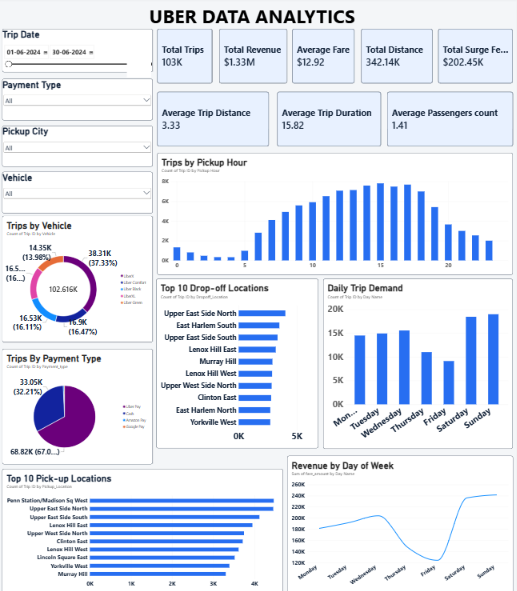

Layout of this report page (visuals, bound fields, positions):
{"tool":"powerbi","page":{"name":"Page 1","canvas":[2000,2300],"ordinal":0},"visuals":[{"type":"cardVisual","fields":{"Data":["Uber_Trip_Joined_Data.Total Revenue"]},"box":[847.5,122.5,262.5,210],"z":1},{"type":"cardVisual","fields":{"Data":["Uber_Trip_Joined_Data.Average Fare"]},"box":[1130,122.5,240,210],"z":2},{"type":"cardVisual","fields":{"Data":["Uber_Trip_Joined_Data.Total Distance"]},"box":[1395,122.5,275,210],"z":3},{"type":"cardVisual","fields":{"Data":["Uber_Trip_Joined_Data.Average Trip Distance"]},"box":[610,367.5,430,210],"z":4},{"type":"cardVisual","fields":{"Data":["Uber_Trip_Joined_Data.Total Surge Fees"]},"box":[1692.5,122.5,287.5,210],"z":6},{"type":"cardVisual","fields":{"Data":["Uber_Trip_Joined_Data.Average Passengers count"]},"box":[1495,367.5,485,210],"z":7},{"type":"clusteredColumnChart","title":"Daily Trip Demand","fields":{"Category":["Uber_Trip_Joined_Data.Day Name"],"Y":["CountNonNull(Uber_Trip_Joined_Data.Trip ID)"]},"box":[1250,1085,730,655],"z":8},{"type":"clusteredColumnChart","title":"Trips by Pickup Hour","fields":{"Category":["Uber_Trip_Joined_Data.Pickup Hour"],"Y":["CountNonNull(Uber_Trip_Joined_Data.Trip ID)"]},"box":[610,600,1370,470],"z":9},{"type":"lineChart","title":"Revenue by Day of Week","fields":{"Category":["Uber_Trip_Joined_Data.Day Name"],"Y":["Sum(Uber_Trip_Joined_Data.fare_amount)"]},"box":[1110,1767.5,870,532.5],"z":10},{"type":"clusteredBarChart","title":"Top 10 Drop-off Locations","fields":{"Category":["Uber_Trip_Joined_Data.Dropoff_Location"],"Y":["CountNonNull(Uber_Trip_Joined_Data.Trip ID)"]},"box":[605,1087.5,625,652.5],"z":12},{"type":"clusteredBarChart","title":"Top 10 Pick-up Locations","fields":{"Category":["Uber_Trip_Joined_Data.Pickup_Location"],"Y":["CountNonNull(Uber_Trip_Joined_Data.Trip ID)"]},"box":[10,1820,1082.5,480],"z":13},{"type":"donutChart","title":"Trips by Vehicle","fields":{"Category":["Uber_Trip_Joined_Data.Vehicle"],"Y":["CountNonNull(Uber_Trip_Joined_Data.Trip ID)"]},"box":[10,842.5,580,487.5],"z":14},{"type":"pieChart","title":"Trips By Payment Type","fields":{"Category":["Uber_Trip_Joined_Data.Payment_type"],"Y":["CountNonNull(Uber_Trip_Joined_Data.Trip ID)"]},"box":[10,1355,580,445],"z":15},{"type":"slicer","title":"Trip Date","fields":{"Values":["Uber_Trip_Joined_Data.Trip_Date"]},"box":[10,122.5,580,167.5],"z":16},{"type":"slicer","title":"Vehicle","fields":{"Values":["Uber_Trip_Joined_Data.Vehicle"]},"box":[10,675,580,160],"z":17},{"type":"slicer","title":"Payment Type","fields":{"Values":["Uber_Trip_Joined_Data.Payment_type"]},"box":[10,315,580,160],"z":18},{"type":"slicer","title":"Pickup City","fields":{"Values":["Uber_Trip_Joined_Data.Pickup_City"]},"box":[10,497.5,580,157.5],"z":19},{"type":"textbox","box":[580,25,805,117.5],"z":21},{"type":"cardVisual","title":"Total Trips","fields":{"Data":["Uber_Trip_Joined_Data.Total Trips"]},"box":[610,122.5,212.5,210],"z":22},{"type":"cardVisual","fields":{"Data":["Uber_Trip_Joined_Data.Average Trip Duration"]},"box":[1070,367.5,400,210],"z":23}]}

Visuals, with their boxes in screenshot pixels (x1, y1, x2, y2), scaled from the page's 2000x2300 canvas onto the 517x591 screenshot:
cardVisual - Uber_Trip_Joined_Data.Total Revenue: bbox(219, 31, 287, 85)
cardVisual - Uber_Trip_Joined_Data.Average Fare: bbox(292, 31, 354, 85)
cardVisual - Uber_Trip_Joined_Data.Total Distance: bbox(361, 31, 432, 85)
cardVisual - Uber_Trip_Joined_Data.Average Trip Distance: bbox(158, 94, 269, 148)
cardVisual - Uber_Trip_Joined_Data.Total Surge Fees: bbox(438, 31, 512, 85)
cardVisual - Uber_Trip_Joined_Data.Average Passengers count: bbox(386, 94, 512, 148)
"Daily Trip Demand" clusteredColumnChart: bbox(323, 279, 512, 447)
"Trips by Pickup Hour" clusteredColumnChart: bbox(158, 154, 512, 275)
"Revenue by Day of Week" lineChart: bbox(287, 454, 512, 590)
"Top 10 Drop-off Locations" clusteredBarChart: bbox(156, 279, 318, 447)
"Top 10 Pick-up Locations" clusteredBarChart: bbox(3, 468, 282, 590)
"Trips by Vehicle" donutChart: bbox(3, 216, 153, 342)
"Trips By Payment Type" pieChart: bbox(3, 348, 153, 463)
"Trip Date" slicer: bbox(3, 31, 153, 75)
"Vehicle" slicer: bbox(3, 173, 153, 215)
"Payment Type" slicer: bbox(3, 81, 153, 122)
"Pickup City" slicer: bbox(3, 128, 153, 168)
textbox: bbox(150, 6, 358, 37)
"Total Trips" cardVisual: bbox(158, 31, 213, 85)
cardVisual - Uber_Trip_Joined_Data.Average Trip Duration: bbox(277, 94, 380, 148)
